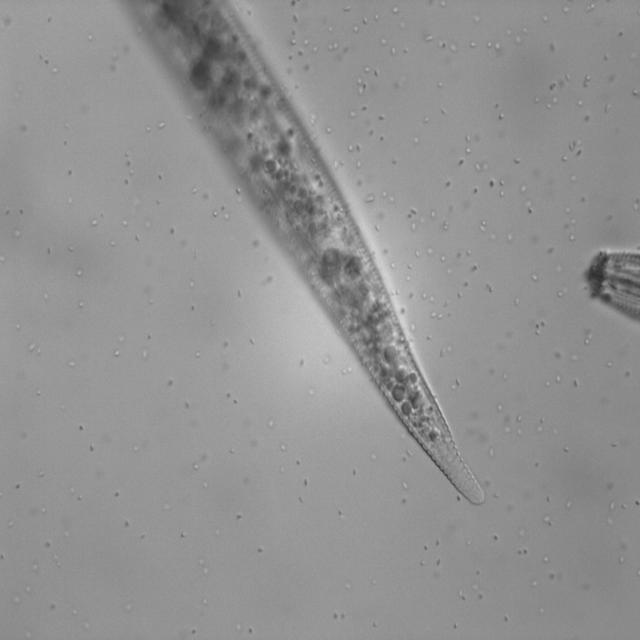Radopholus: (266, 164, 486, 515)
